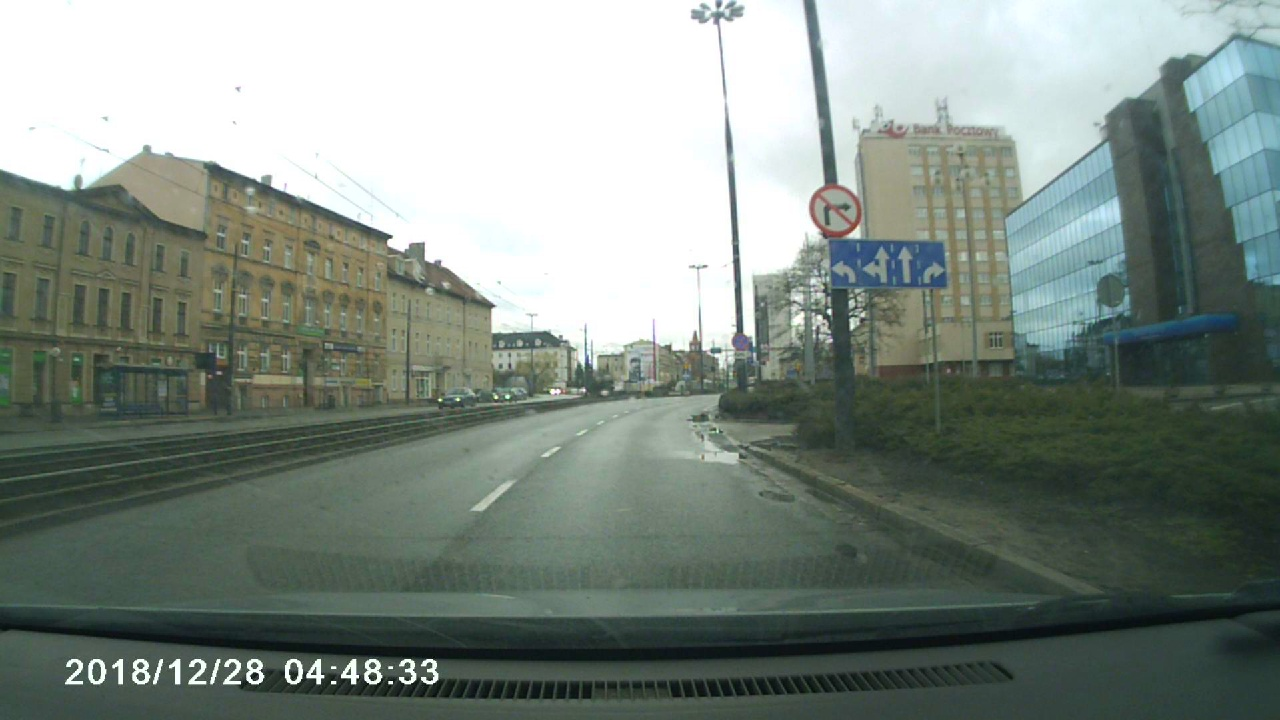B22: (809, 183, 863, 237)
